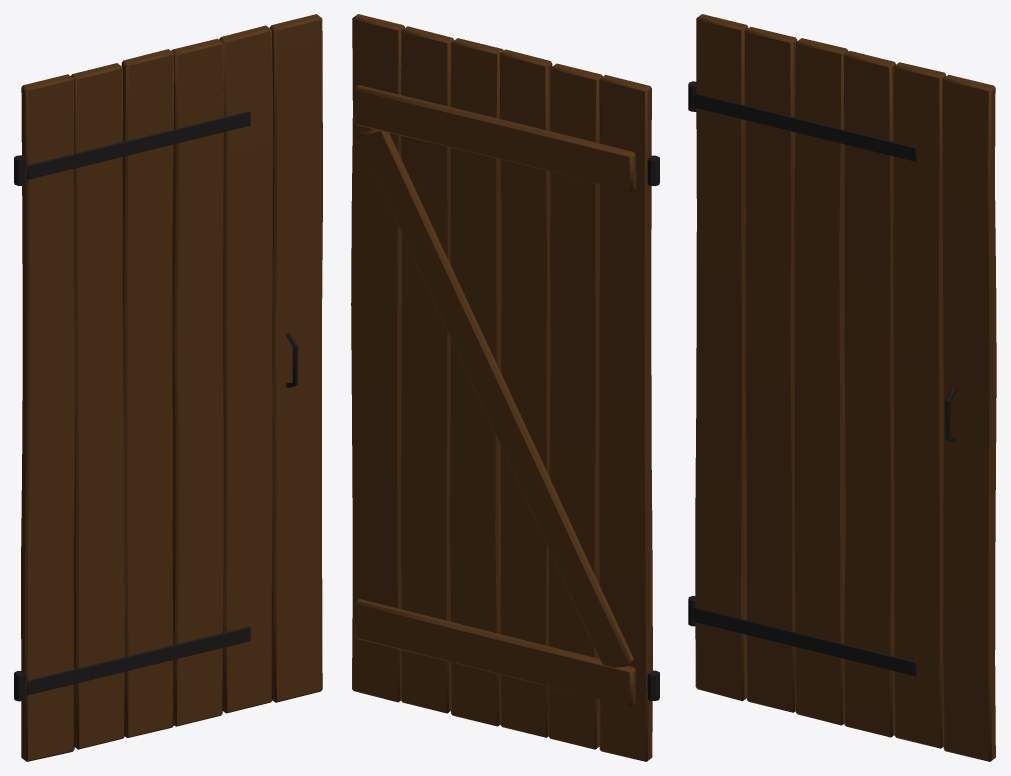
File: tuer.glb
The picture shows the model from 3 angles, left to right: view 1: azimuth 30°, elevation 25°; view 2: azimuth 150°, elevation 25°; view 3: azimuth 330°, elevation 25°; orthographic projection.
Visible parts, largest first — view 1: tuer; view 2: tuer; view 3: tuer.
Part boxes in pixels (x1,y1,x2,y2): tuer: (14,14,322,761); tuer: (351,14,659,761); tuer: (688,14,996,761).
Bounding box in the file's own units: 1.01 × 2.12 × 0.1192.
